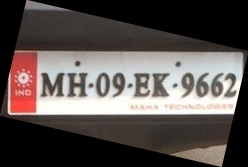character: (41, 71, 65, 98), (66, 71, 88, 98), (150, 71, 170, 97), (133, 72, 151, 98), (95, 71, 110, 98), (111, 72, 126, 98), (223, 72, 238, 97), (196, 71, 210, 97), (210, 71, 224, 97), (180, 72, 194, 97)
